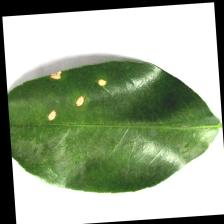canker: (40, 71, 112, 117)
